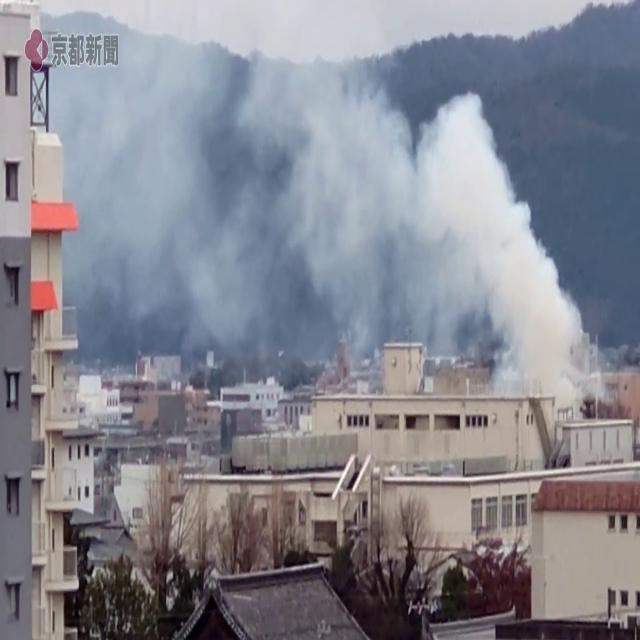Smoke: (59, 13, 587, 379)
